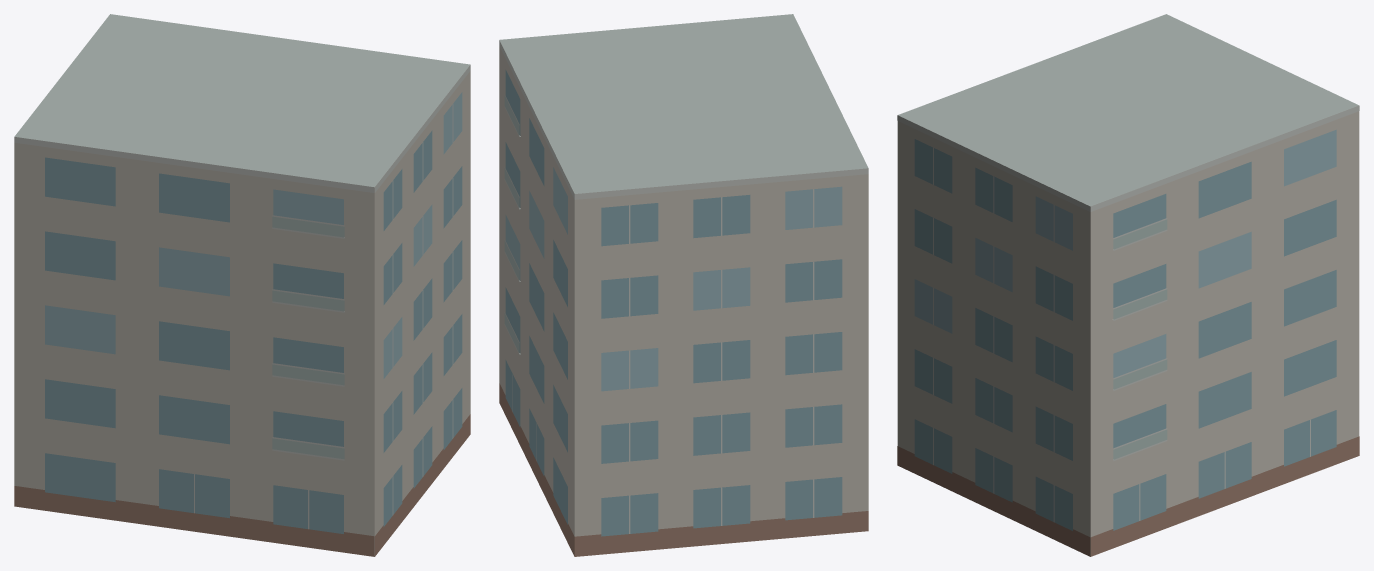
File: survey-upis-32977893.glb
The picture shows the model from 3 angles, left to right: view 1: azimuth 30°, elevation 25°; view 2: azimuth 150°, elevation 25°; view 3: azimuth 270°, elevation 25°; orthographic projection. The views are drawn at different scales.
Visible parts, largest first — view 1: survey-upis-32977893.tmp; view 2: survey-upis-32977893.tmp; view 3: survey-upis-32977893.tmp.
Part boxes in pixels (x1,y1,x2,y2): survey-upis-32977893.tmp: [14, 14, 470, 556]; survey-upis-32977893.tmp: [499, 14, 868, 556]; survey-upis-32977893.tmp: [897, 14, 1359, 556].
Bounding box in the file's own units: 17.98 × 15.25 × 18.23.
